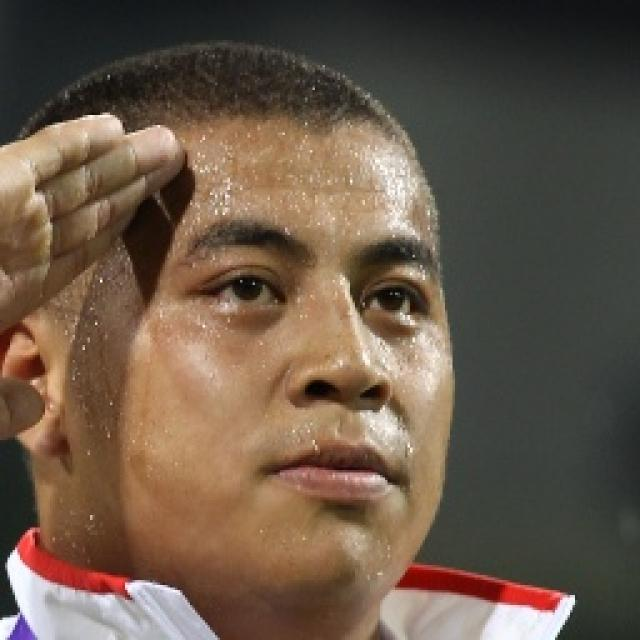earlobe: (24, 408, 68, 460)
eye: (195, 266, 288, 309), (362, 282, 428, 320)
nose: (289, 388, 395, 443)
wholeear: (0, 310, 71, 459)
